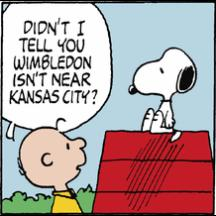charlie: (16, 117, 88, 215)
snoopy: (128, 46, 198, 144)
